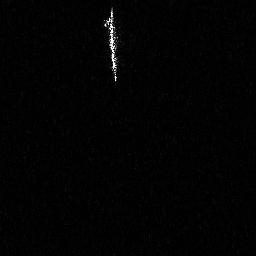ship: (103, 6, 120, 83)
